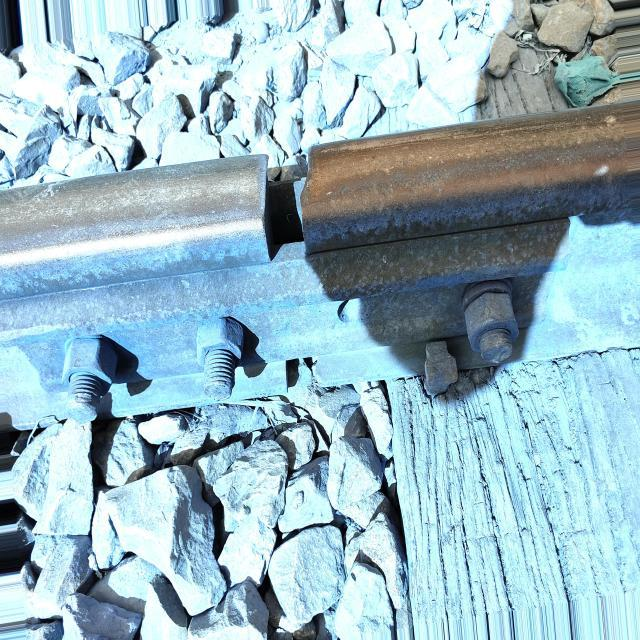Defective Joint: (0, 216, 573, 426)
Good Fasteners: (425, 341, 458, 395)
